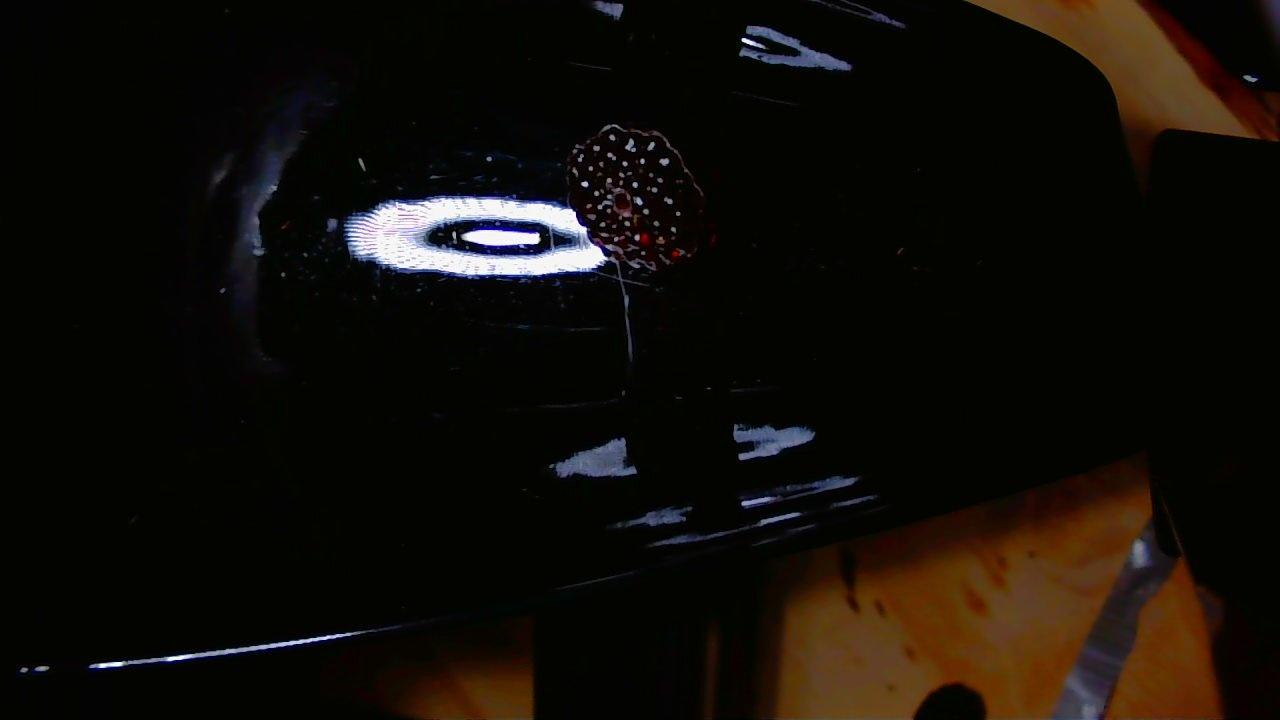berry: (569, 125, 702, 268)
